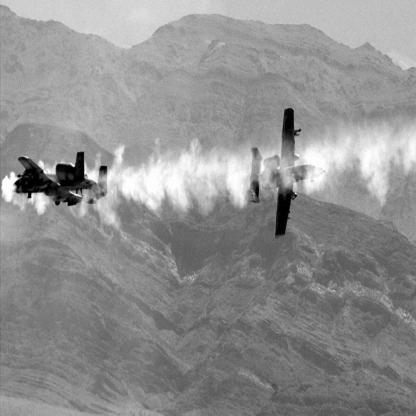A10: (248, 108, 327, 240), (13, 152, 109, 208)
